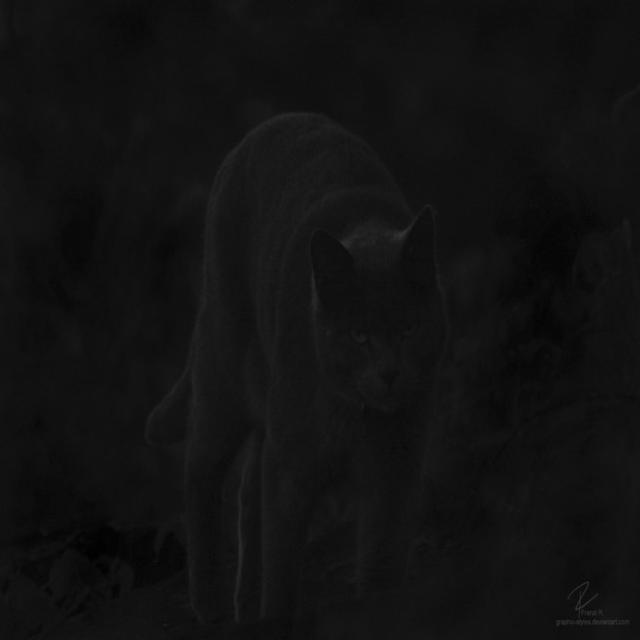Cat: (143, 107, 457, 631)
